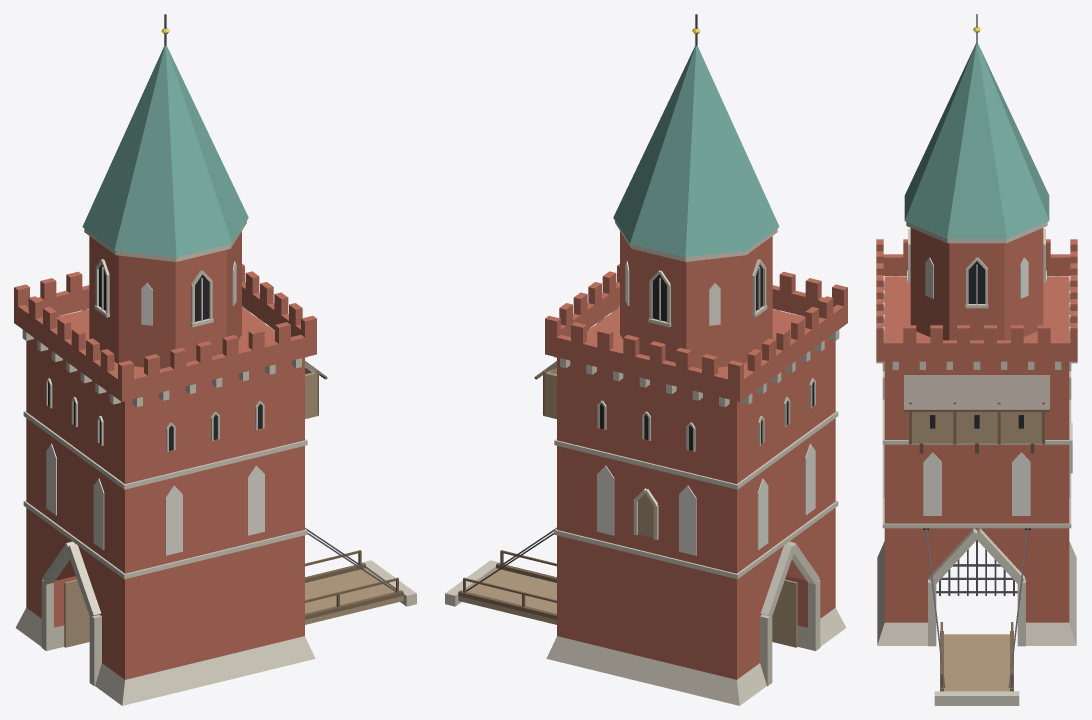
The model's file is gate_krakow.glb.
The picture shows the model from 3 angles, left to right: view 1: azimuth 30°, elevation 25°; view 2: azimuth 150°, elevation 25°; view 3: azimuth 270°, elevation 25°; orthographic projection. The views are drawn at different scales.
Visible parts, largest first — view 1: GateKrakow; view 2: GateKrakow; view 3: GateKrakow.
Boxes of the visible parts, x1=… form: GateKrakow: x1=14, y1=14, x2=416, y2=705; GateKrakow: x1=445, y1=14, x2=847, y2=705; GateKrakow: x1=876, y1=14, x2=1077, y2=705.
Size of the model in its own units: 19.05 by 35.1 by 10.9.
